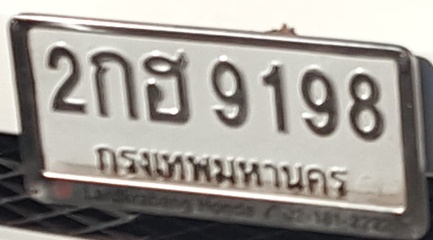num2: (43, 42, 89, 116)
txt01: (86, 48, 140, 120)
txt39: (140, 49, 192, 125)
